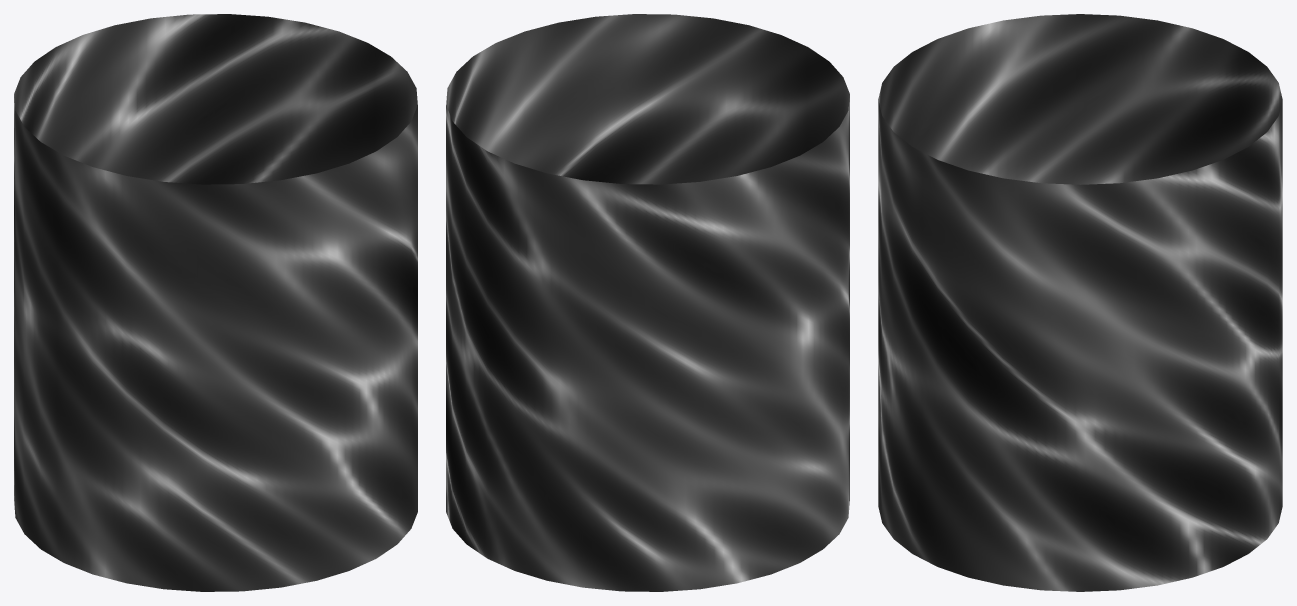
File: eff_Column02.fbx
3 renders of one model, left to right at view 1: azimuth 30°, elevation 25°; view 2: azimuth 150°, elevation 25°; view 3: azimuth 270°, elevation 25°, orthographic.
Parts seen in each view (by area): view 1: eff_Column02_rear_msh, eff_Column02_front_msh; view 2: eff_Column02_front_msh, eff_Column02_rear_msh; view 3: eff_Column02_front_msh, eff_Column02_rear_msh.
Part boxes in pixels (left/top/right/bottom): eff_Column02_rear_msh: left=40, top=57, right=417, bottom=591; eff_Column02_front_msh: left=14, top=14, right=391, bottom=548; eff_Column02_front_msh: left=446, top=57, right=823, bottom=591; eff_Column02_rear_msh: left=472, top=14, right=849, bottom=548; eff_Column02_front_msh: left=1080, top=14, right=1282, bottom=591; eff_Column02_rear_msh: left=878, top=14, right=1080, bottom=591.
Bounding box in the file's own units: 9 × 10 × 9.
